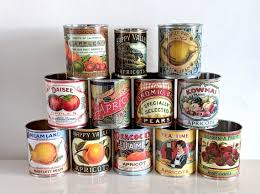can: (24, 21, 245, 184)
